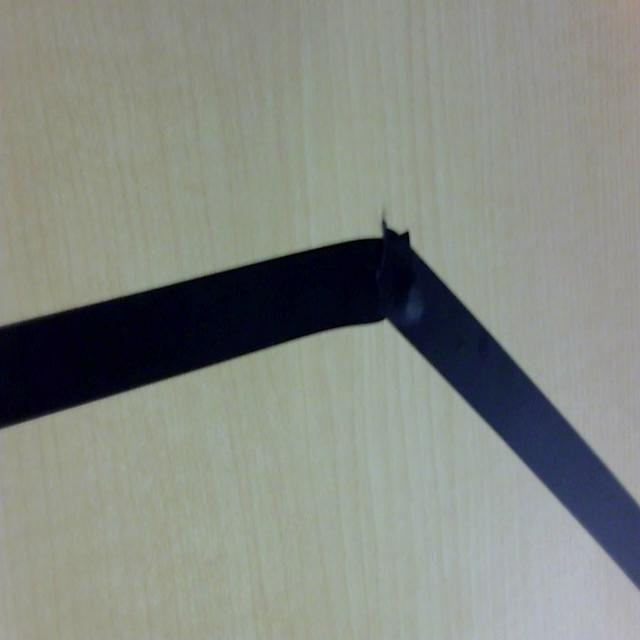tape: (0, 196, 640, 618)
